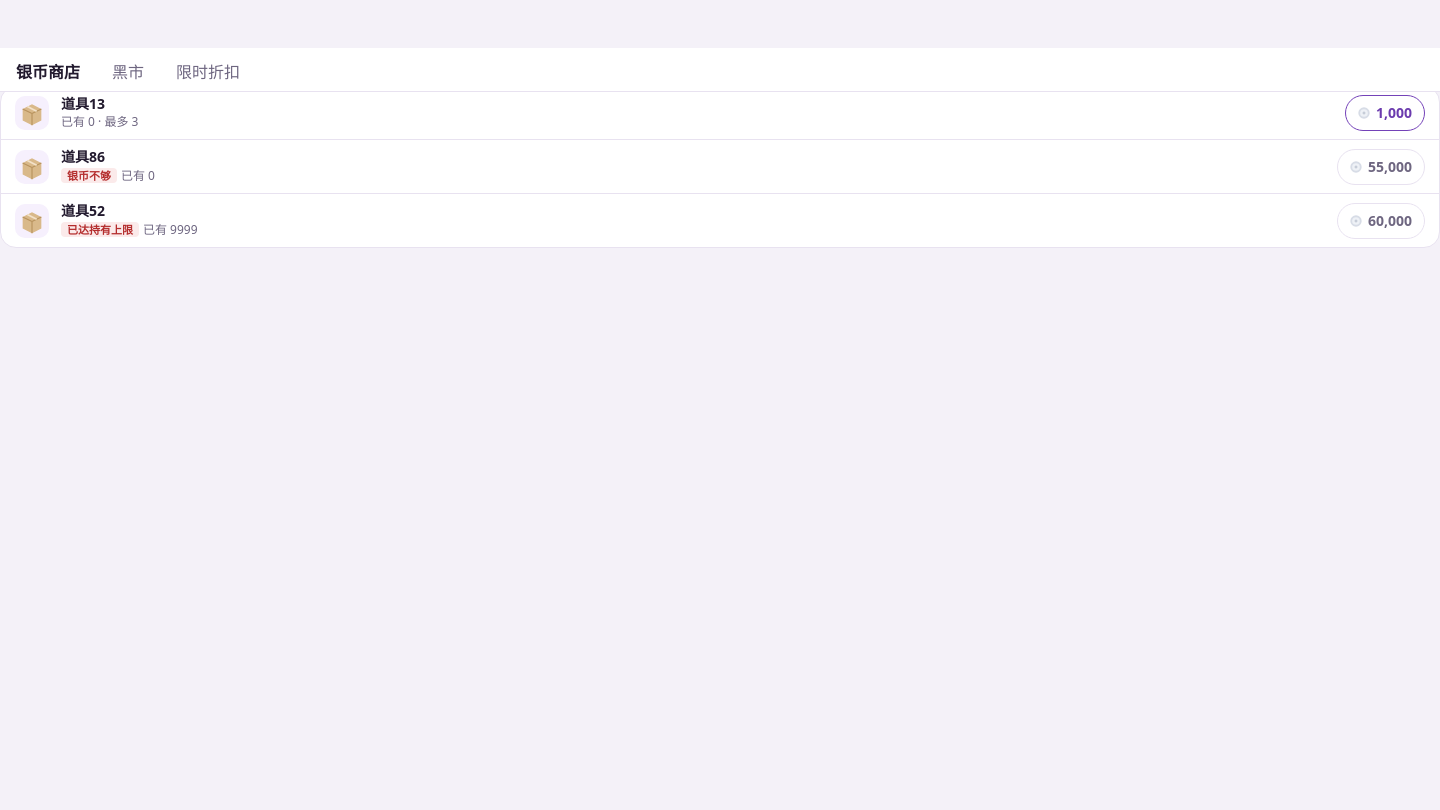
Scenario: ShopView（问题记录：商店不显示最大可购买数量） › 面板里“最多”一键填满上限
Click the button with test id "buy-13" at (1385, 113), box [1345,95,1425,131]
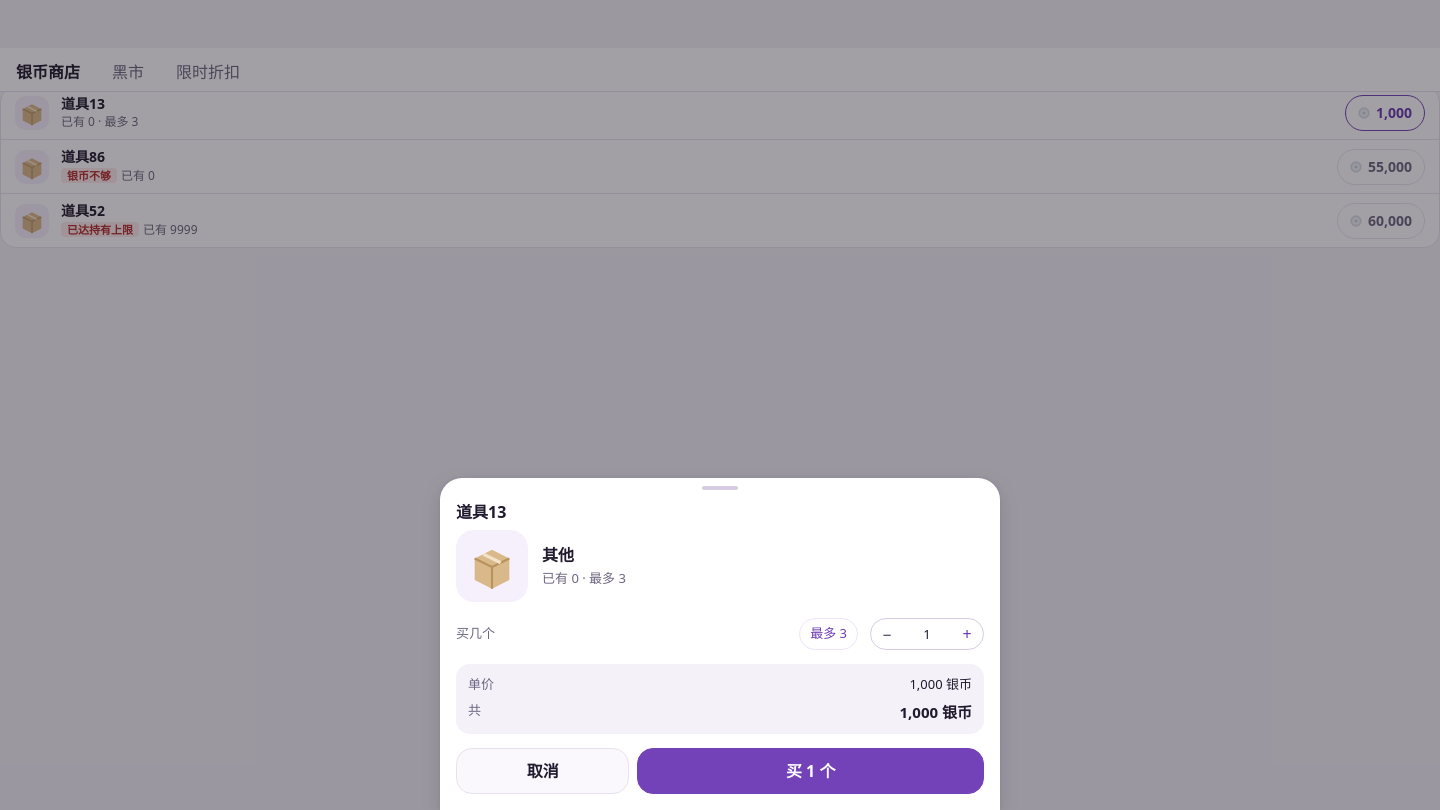
Click the button with test id "qty-max" at (829, 634), box [799,618,858,650]
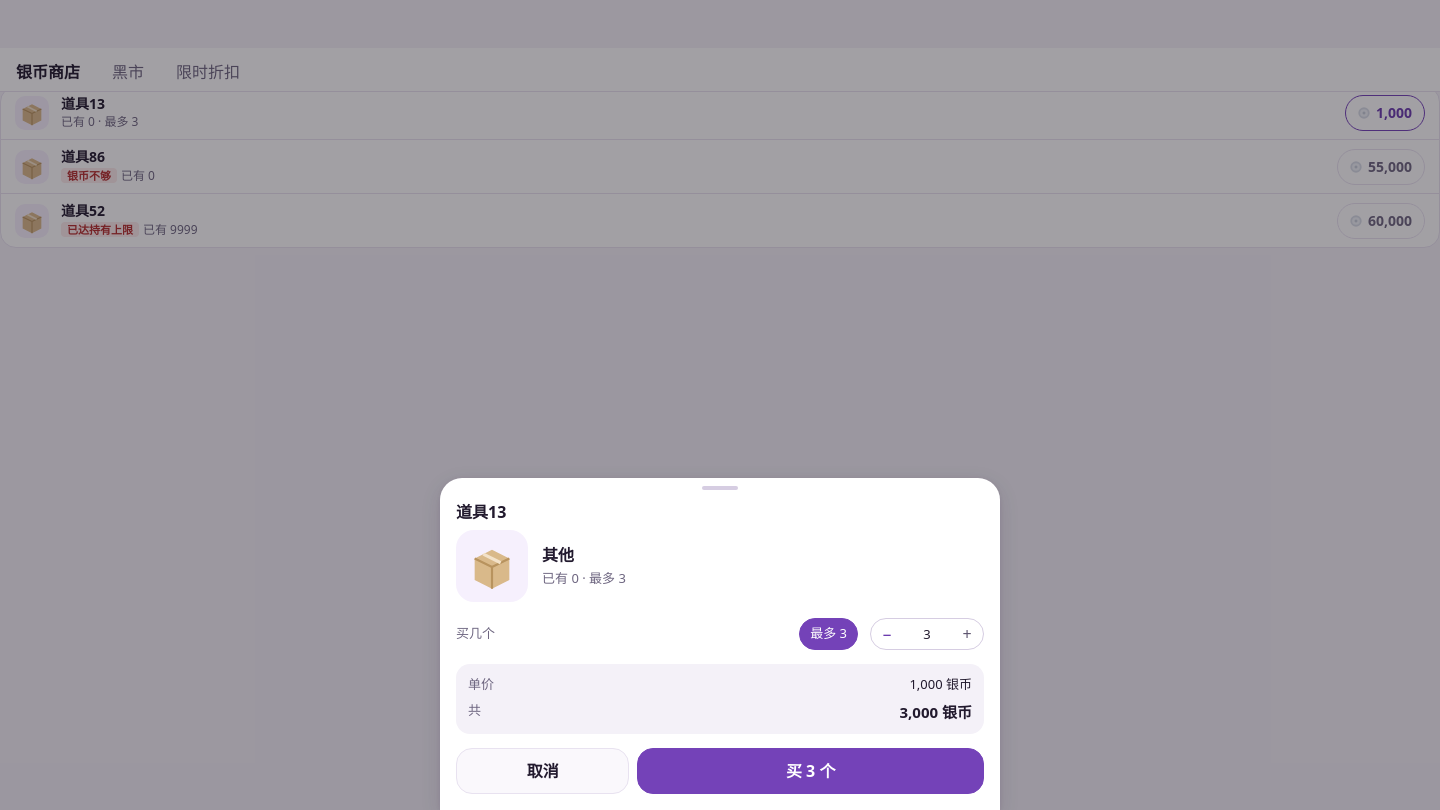
Now the number field with test id "qty-sheet" holds "3", box [903,619,951,649]
Now the button with test id "sheet-buy" reads "买 3 个", box [637,748,984,794]
